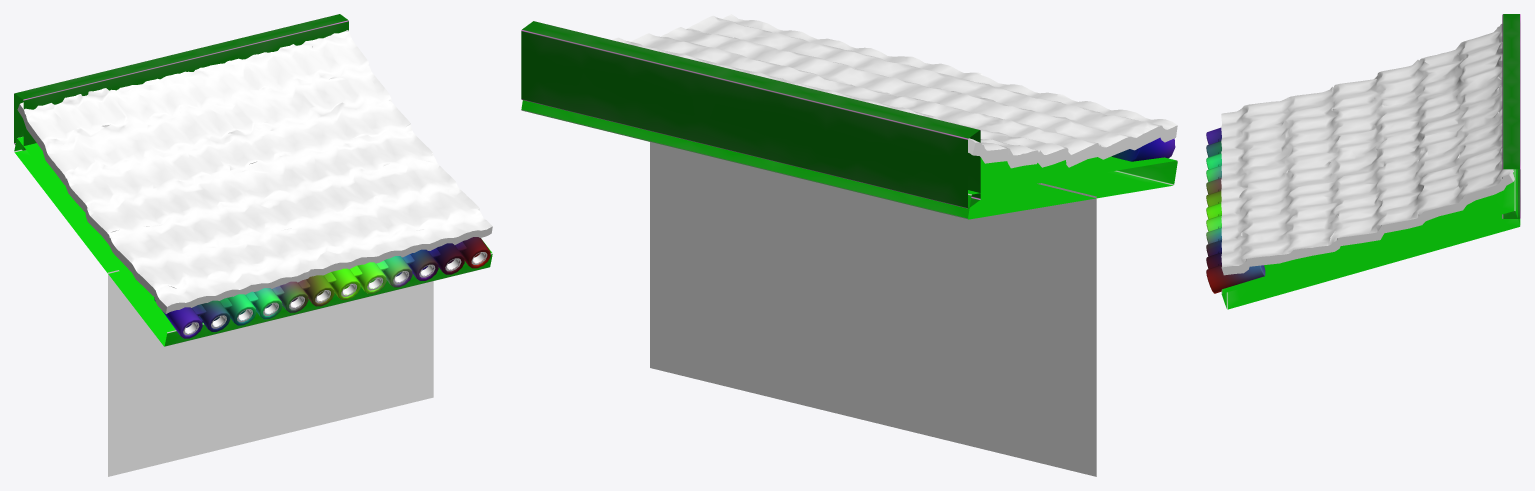
File: roof_fenced_200_01.fbx
3 views of the same model, side by side, from view 1: azimuth 30°, elevation 25°; view 2: azimuth 150°, elevation 25°; view 3: azimuth 270°, elevation 25° (orthographic). The views are drawn at different scales.
Visible parts, largest first — view 1: roof_fenced_200_01; view 2: roof_fenced_200_01; view 3: roof_fenced_200_01.
Part boxes in pixels (x1,y1,x2,y2): roof_fenced_200_01: [14, 14, 492, 476]; roof_fenced_200_01: [521, 14, 1177, 476]; roof_fenced_200_01: [1206, 14, 1520, 309].
Bounding box in the file's own units: 2 × 1.85 × 1.71.
